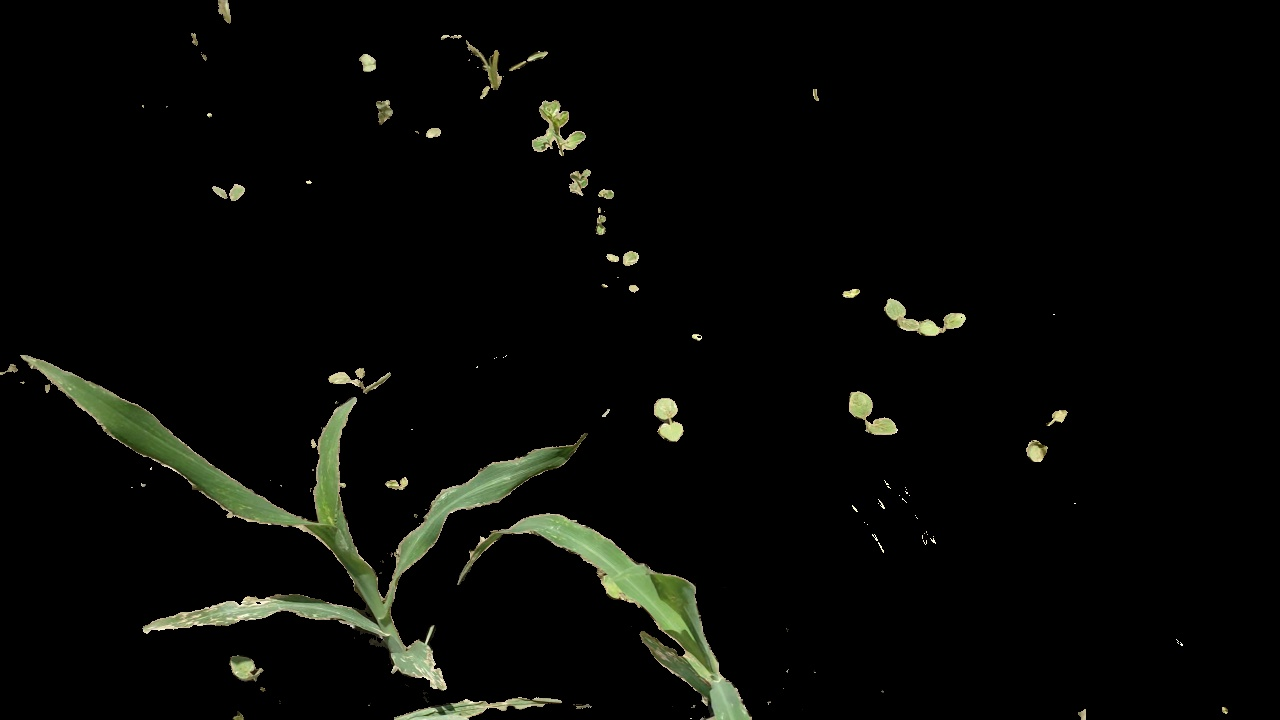crop: (1, 342, 473, 698), (451, 507, 751, 720)
weed: (875, 279, 966, 347), (519, 94, 592, 164), (1013, 401, 1075, 465), (836, 391, 901, 441), (646, 389, 688, 448), (559, 174, 603, 204), (208, 174, 246, 201)
